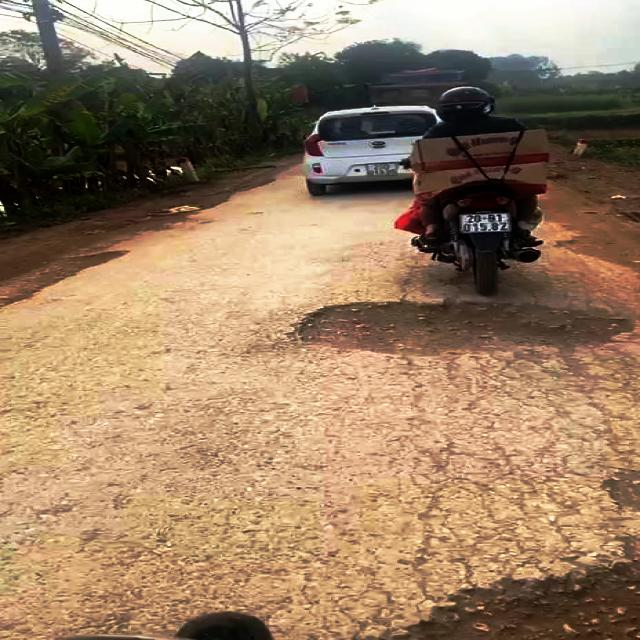pothole: (387, 542, 640, 640), (287, 297, 637, 357), (0, 248, 132, 307)
